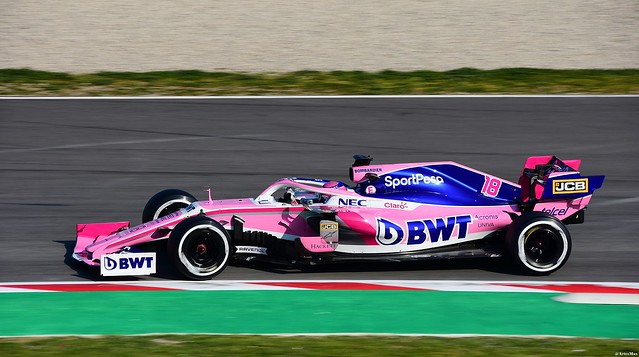F1 Car: (60, 150, 605, 285)
